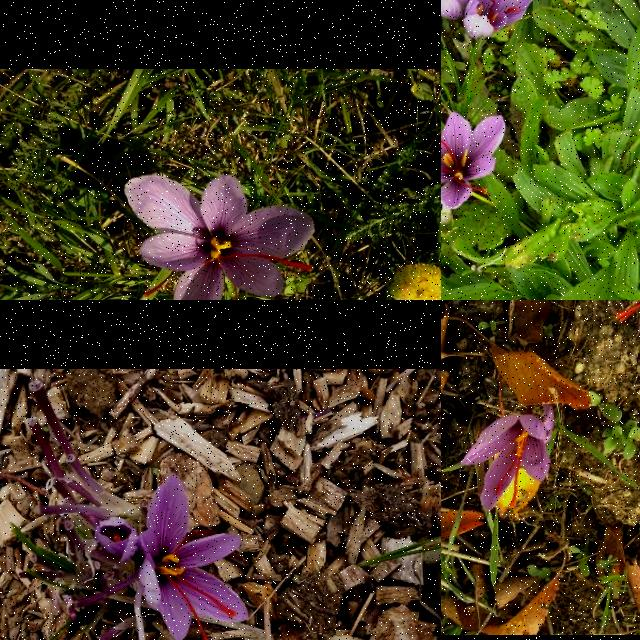flower: (123, 176, 316, 300), (139, 473, 251, 640), (461, 406, 555, 512), (441, 105, 506, 208), (463, 0, 534, 39), (94, 516, 138, 562), (441, 0, 484, 21)
